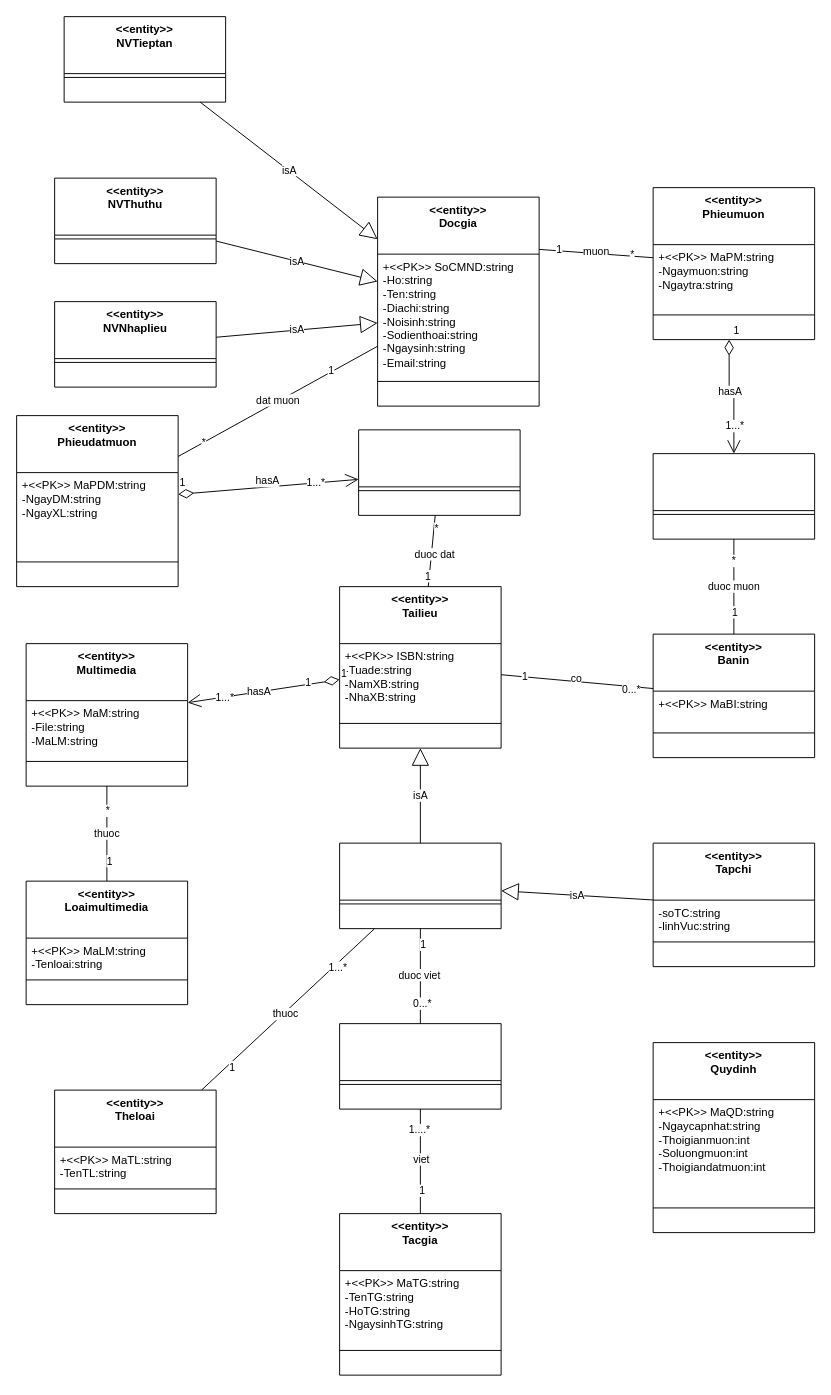
Image size: 831x1395. Some labels were removed from this diagram. Here are the shapes that lost their labels. From the top down, the centre of each, then its label:
At pixel 439 472: "<<entity>> CTPhieudatmuon".
At pixel 733 496: "<<entity>> CTPhieumuon".
At pixel 420 885: "<<entity>> Sach".
At pixel 420 1066: "<<entity>> Viet".
